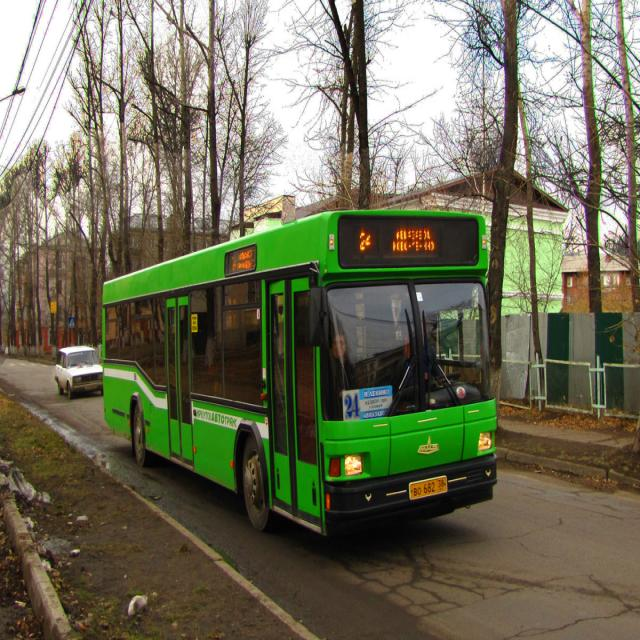number-of-bus: (344, 393, 362, 421)
